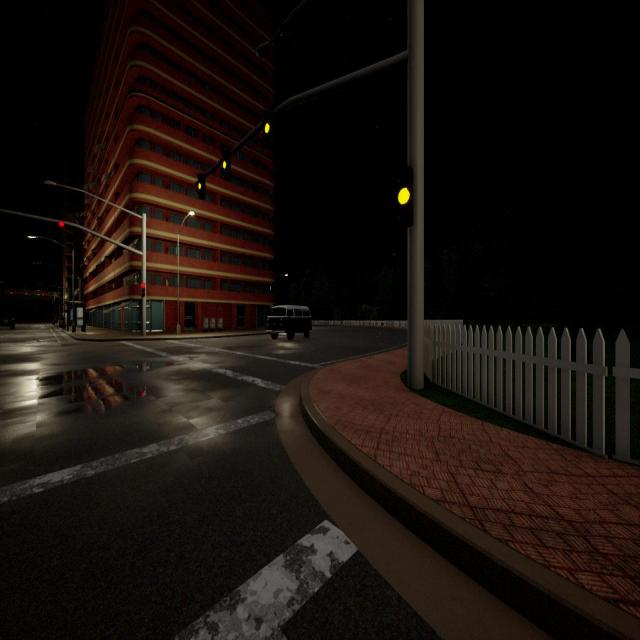Vehicle: (266, 306, 312, 340), (0, 312, 16, 331)
traffic_light: (395, 166, 414, 229), (195, 172, 206, 199), (222, 151, 232, 178), (263, 115, 272, 143), (141, 282, 145, 298), (59, 221, 64, 227), (10, 291, 13, 295), (25, 292, 28, 296), (42, 294, 44, 296)
